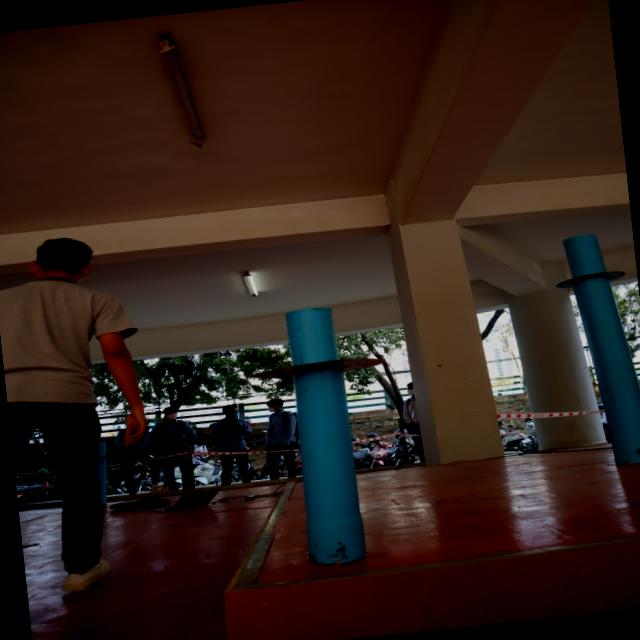pole: (239, 303, 386, 418), (538, 228, 640, 310)
